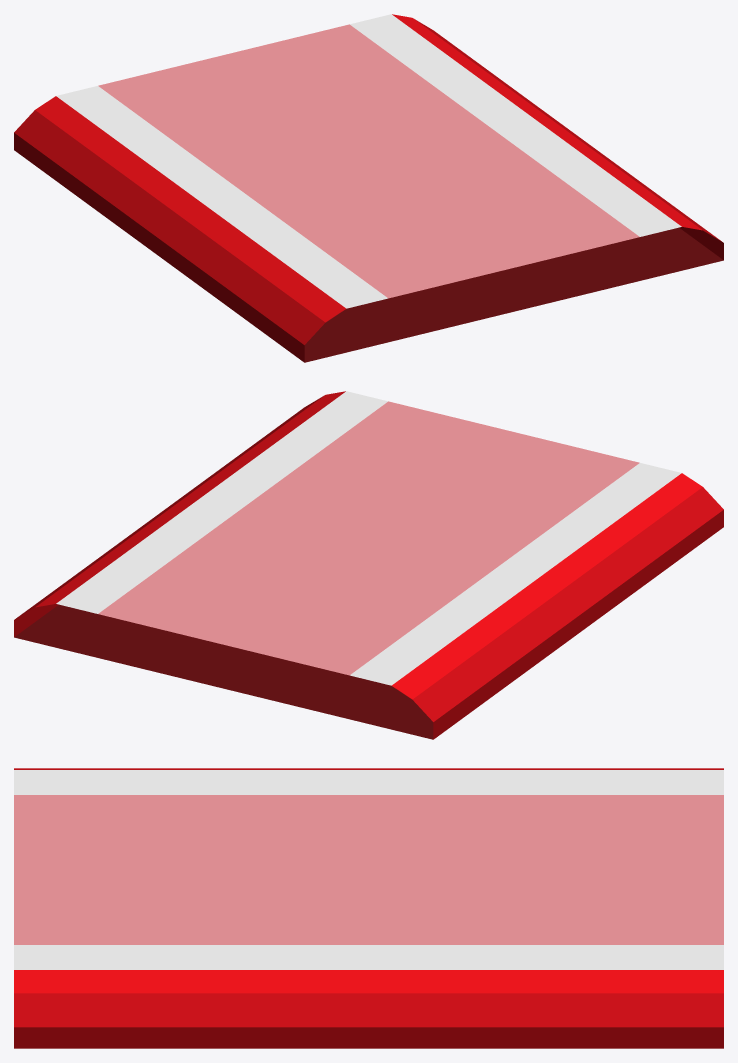
File: straight.fbx
The picture shows the model from 3 angles, top to bottom: view 1: azimuth 30°, elevation 25°; view 2: azimuth 150°, elevation 25°; view 3: azimuth 270°, elevation 25°; orthographic projection. The views are drawn at different scales.
Parts seen in each view (by area): view 1: Straight1X; view 2: Straight1X; view 3: Straight1X.
Part boxes in pixels (bbox=[...]): Straight1X: bbox=[14, 14, 723, 362]; Straight1X: bbox=[14, 391, 723, 739]; Straight1X: bbox=[14, 768, 723, 1048].
Size of the model in its own units: 10 by 1 by 12.
